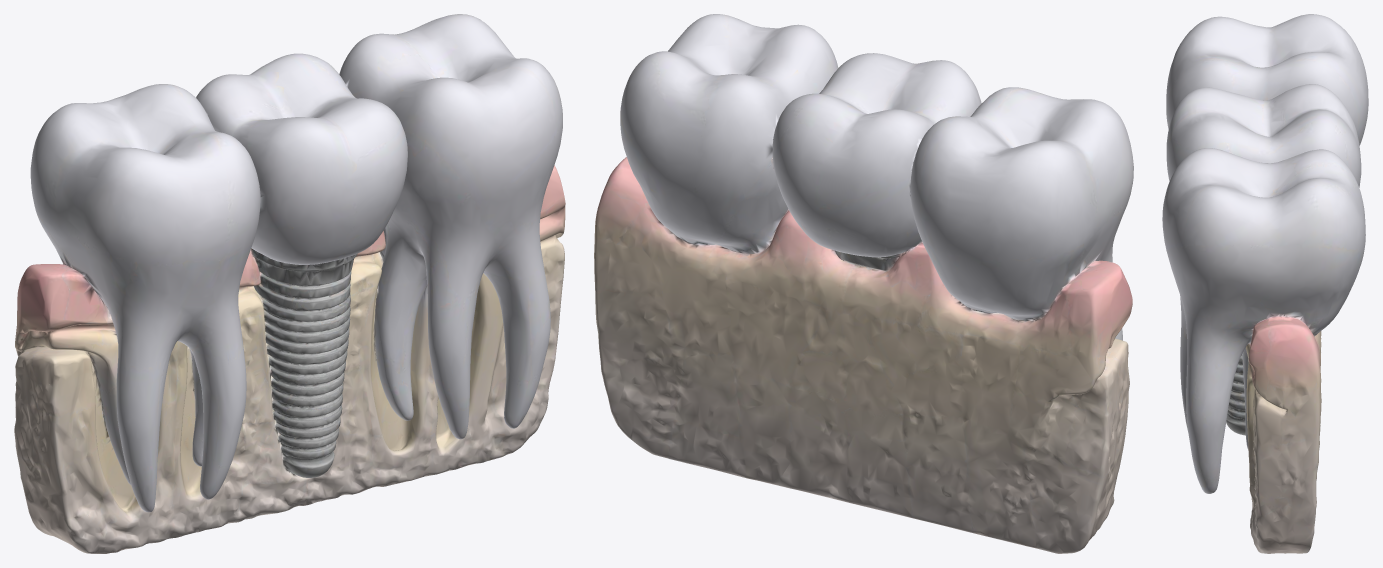
File: impianto.glb
3 renders of one model, left to right at view 1: azimuth 30°, elevation 25°; view 2: azimuth 150°, elevation 25°; view 3: azimuth 270°, elevation 25°, orthographic. The views are drawn at different scales.
Bounding box in the file's own units: 0.0261 × 0.02 × 0.0102.
1 material, 1 textured.
